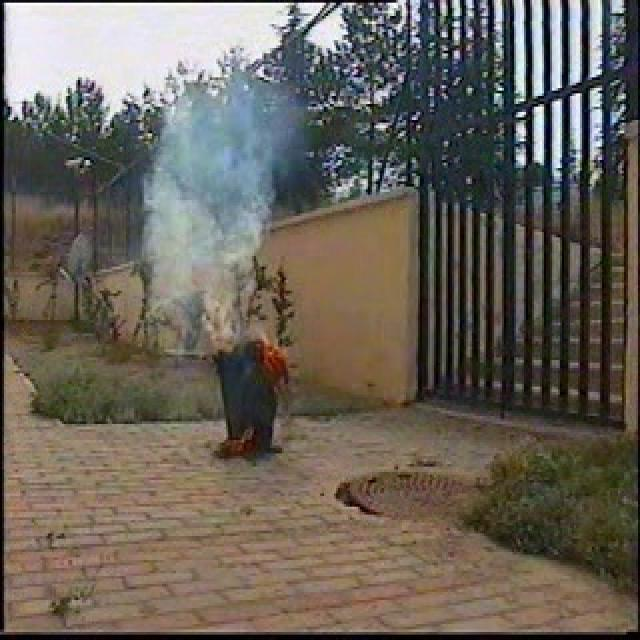Fire: (260, 326, 296, 394)
Smoke: (115, 68, 306, 356)
